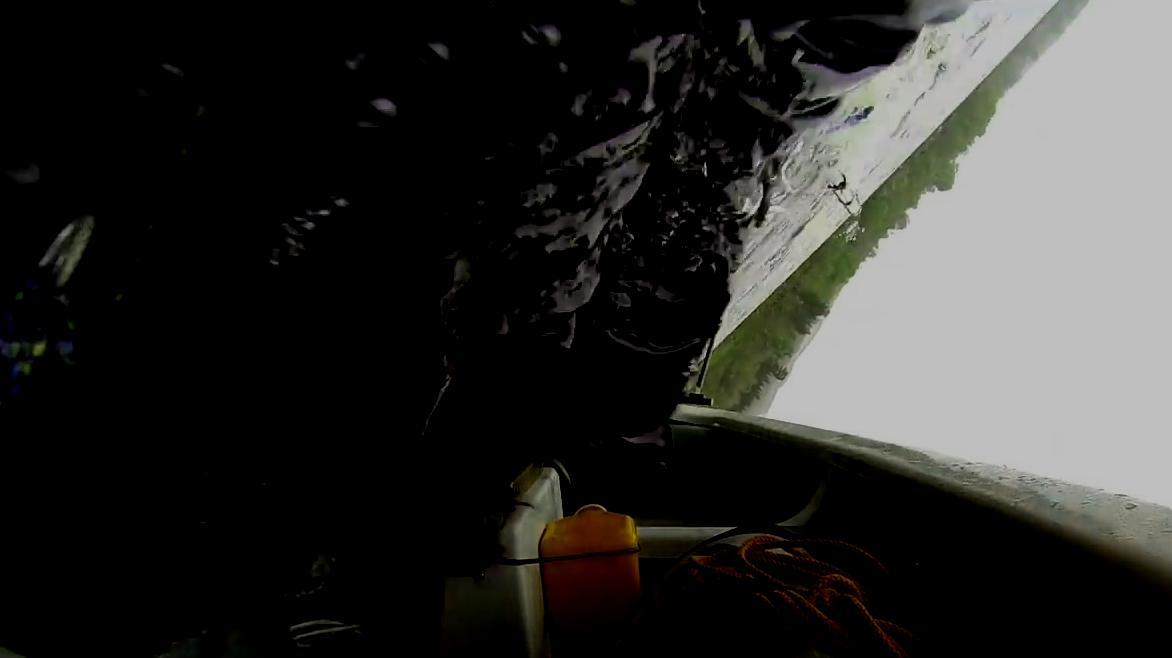boat: (143, 364, 1172, 658), (525, 0, 920, 515)
land: (699, 0, 1093, 417)
sea: (0, 0, 1067, 658)
sky: (746, 0, 1172, 510)
